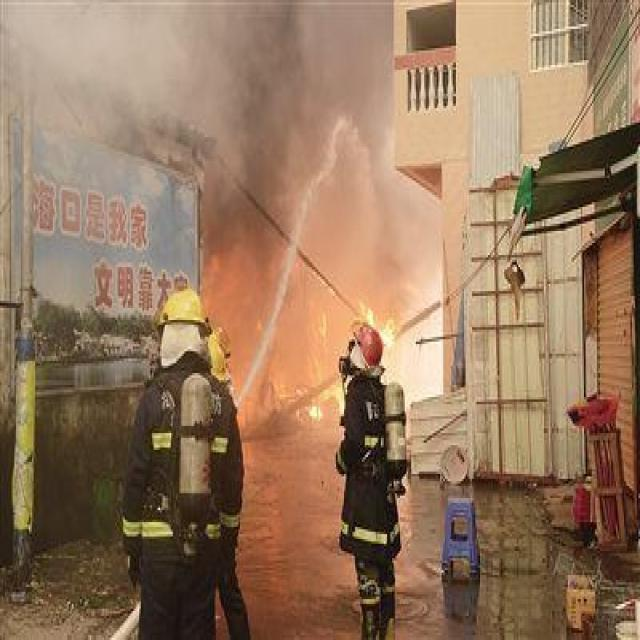Fire: (202, 240, 338, 422), (360, 302, 398, 348), (308, 375, 346, 420)
Smoke: (0, 2, 445, 416)
